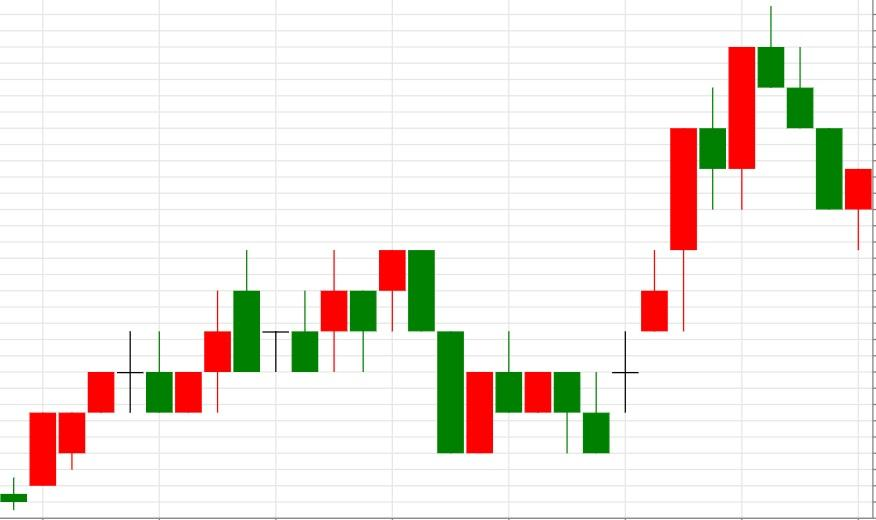bearish_engulfing_fall: (0, 249, 436, 510)
three_black_crows_fall: (582, 7, 843, 453)
